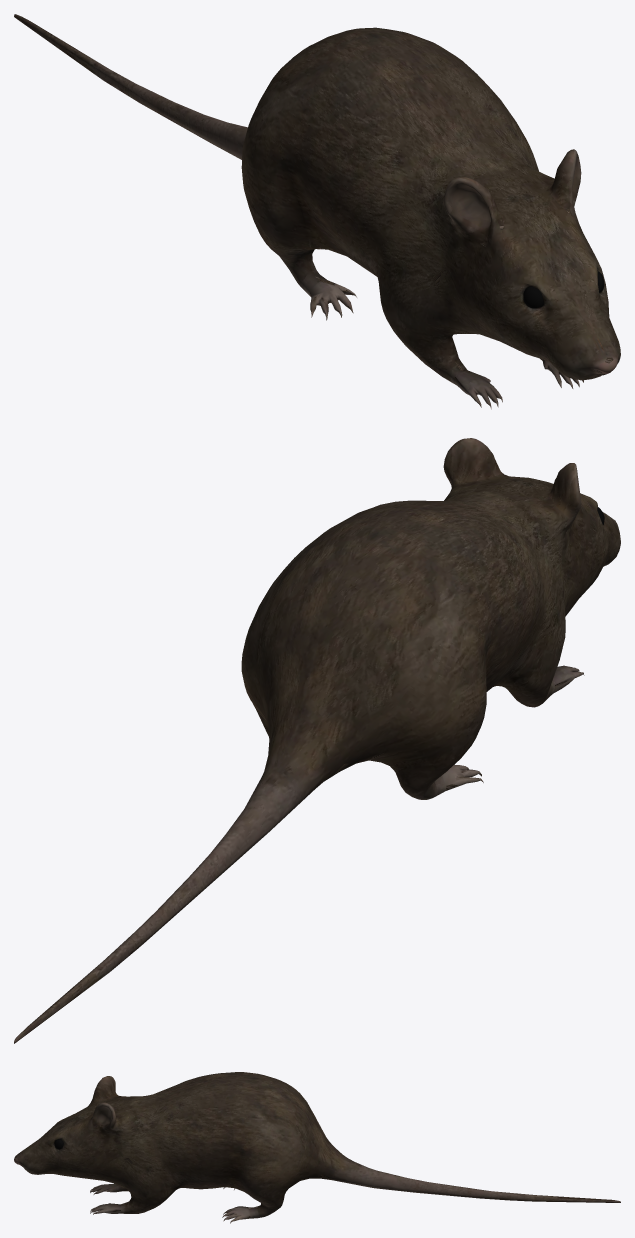
Rendered from street_rat.glb.
3 views of the same model, one above another, from view 1: azimuth 30°, elevation 25°; view 2: azimuth 150°, elevation 25°; view 3: azimuth 270°, elevation 25° (orthographic). The views are drawn at different scales.
Visible parts, largest first — view 1: street_rat; view 2: street_rat; view 3: street_rat.
Part boxes in pixels (bbox=[...]): street_rat: bbox=[14, 14, 620, 409]; street_rat: bbox=[14, 438, 620, 1043]; street_rat: bbox=[14, 1072, 620, 1223].
Bounding box in the file's own units: 0.0319 × 0.0339 × 0.1483.
1 material, 1 textured.
